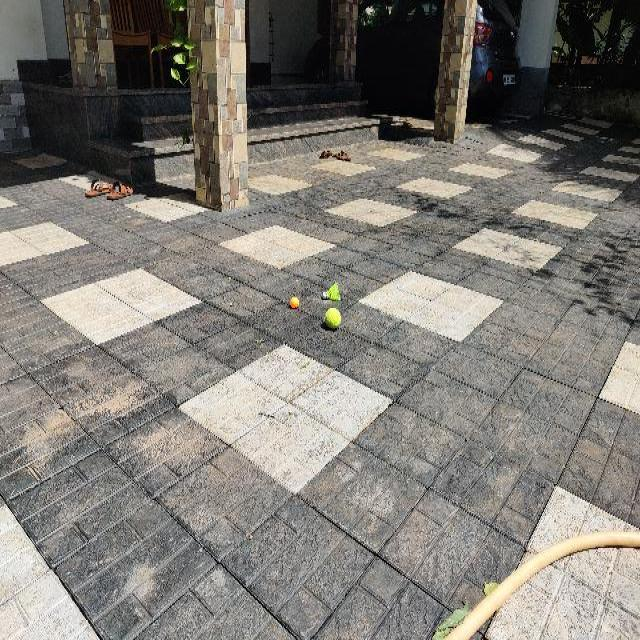ping-pong-ball: (290, 296, 298, 308)
